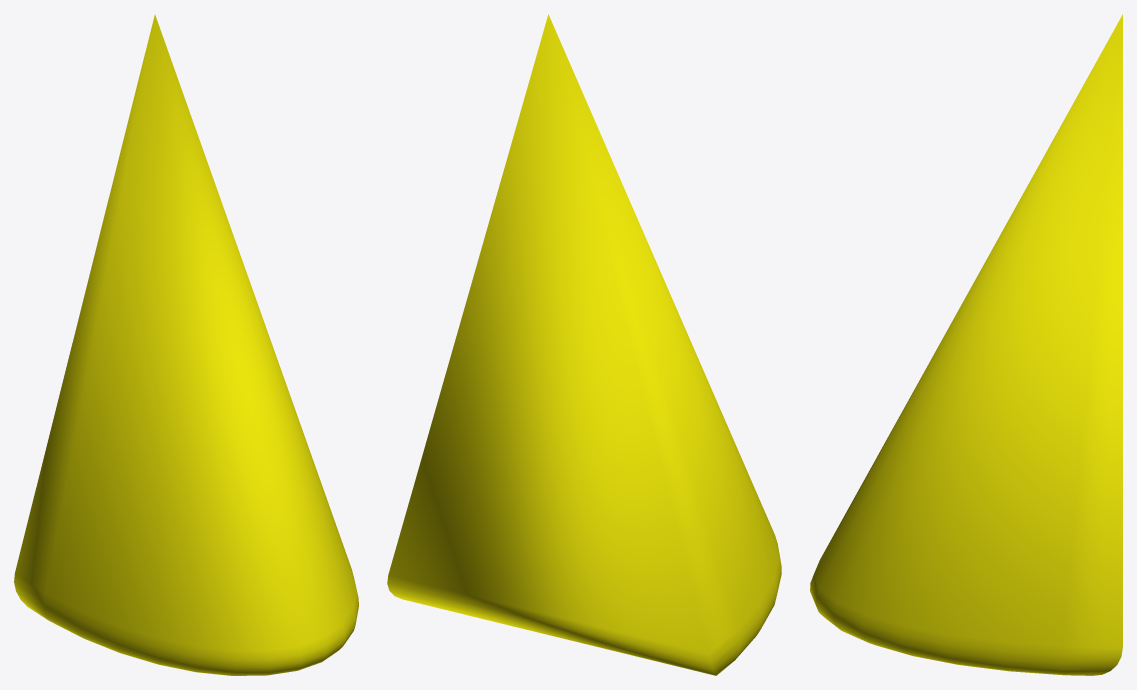
File: nose.fbx
The picture shows the model from 3 angles, left to right: view 1: azimuth 30°, elevation 25°; view 2: azimuth 150°, elevation 25°; view 3: azimuth 270°, elevation 25°; orthographic projection. The views are drawn at different scales.
Parts seen in each view (by area): view 1: Cone; view 2: Cone; view 3: Cone.
Part boxes in pixels (x1,y1,x2,y2): Cone: [14, 15, 358, 675]; Cone: [387, 14, 781, 675]; Cone: [810, 14, 1122, 675].
Size of the model in its own units: 104 by 196 by 93.53.
